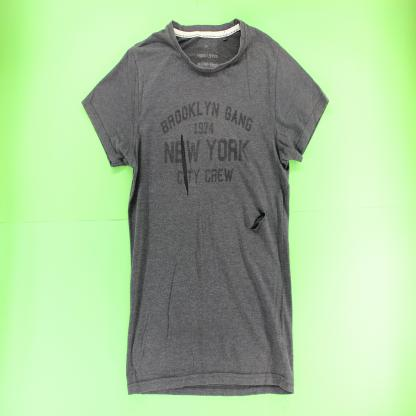hole: (180, 131, 190, 200), (248, 209, 267, 232)
